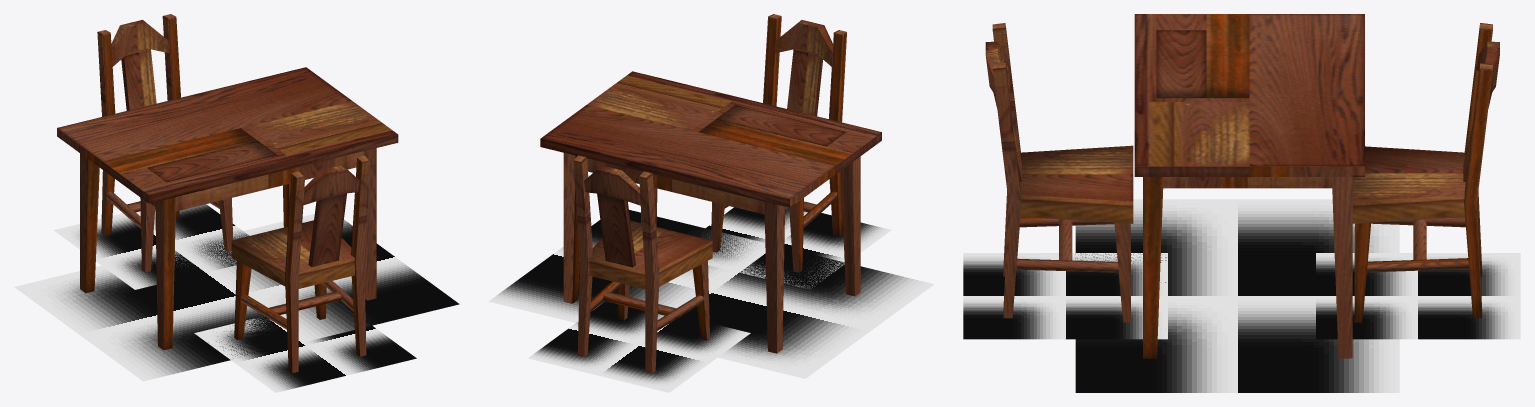
The model's file is F2_Furni_TableDining.dae.
3 views of the same model, side by side, from view 1: azimuth 30°, elevation 25°; view 2: azimuth 150°, elevation 25°; view 3: azimuth 270°, elevation 25° (orthographic). The views are drawn at different scales.
Visible parts, largest first — view 1: _0_0_node, _1_0_node; view 2: _0_0_node, _1_0_node; view 3: _0_0_node, _1_0_node.
Boxes of the visible parts, <box> form: _0_0_node: <box>57,14,398,373</box>; _1_0_node: <box>14,204,459,392</box>; _0_0_node: <box>540,14,881,373</box>; _1_0_node: <box>488,207,933,392</box>; _0_0_node: <box>985,14,1499,358</box>; _1_0_node: <box>963,199,1520,392</box>.
Bounding box in the file's own units: 15.34 × 9.23 × 18.66.
Materials: 2 (2 with a texture image).
